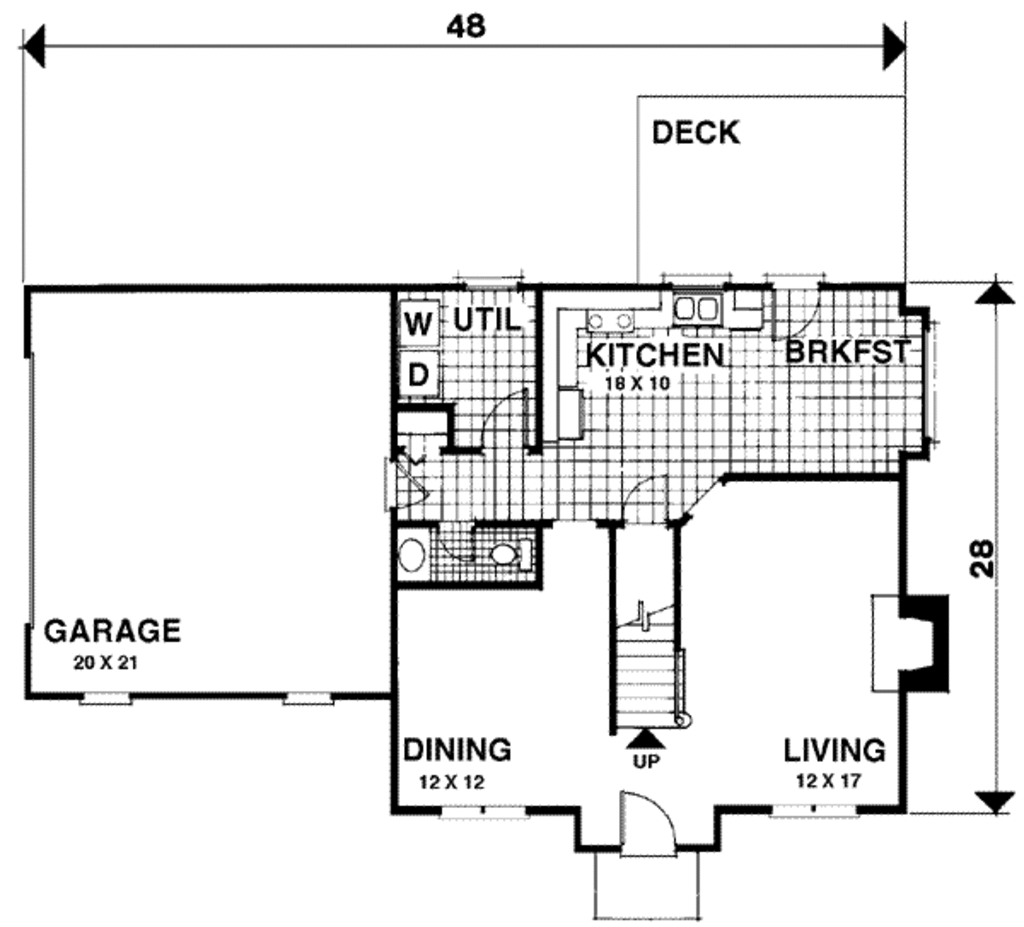door: (611, 787, 681, 859)
large_sink: (490, 533, 536, 575)
small_sink: (397, 523, 438, 587)
stairs: (608, 522, 691, 737)
twin_sink: (670, 287, 730, 330)
windows: (760, 797, 865, 821), (440, 802, 531, 823), (76, 683, 126, 711), (277, 690, 340, 707)
